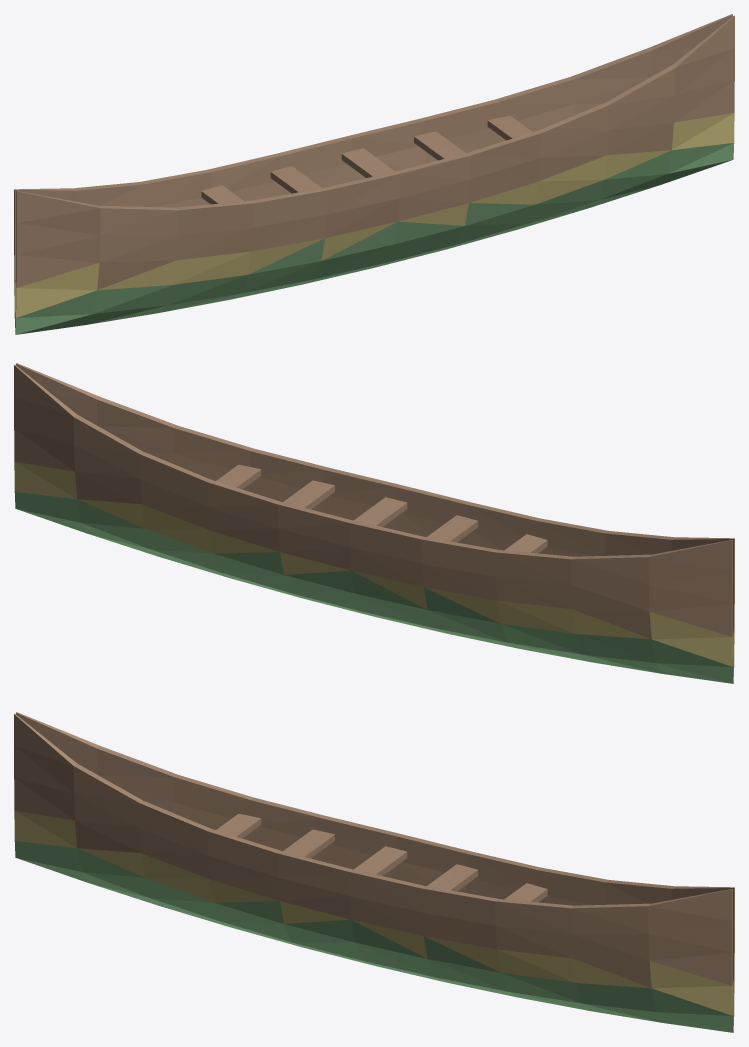
File: fishing-canoe-00.glb
3 renders of one model, top to bottom at view 1: azimuth 30°, elevation 25°; view 2: azimuth 150°, elevation 25°; view 3: azimuth 330°, elevation 25°, orthographic.
Parts seen in each view (by area): view 1: fishing_canoe_00; view 2: fishing_canoe_00; view 3: fishing_canoe_00.
Part boxes in pixels (x1,y1,x2,y2): fishing_canoe_00: [14, 14, 734, 334]; fishing_canoe_00: [14, 363, 734, 683]; fishing_canoe_00: [14, 712, 734, 1032].
Size of the model in its own units: 5.88 by 1.29 by 0.7362.
